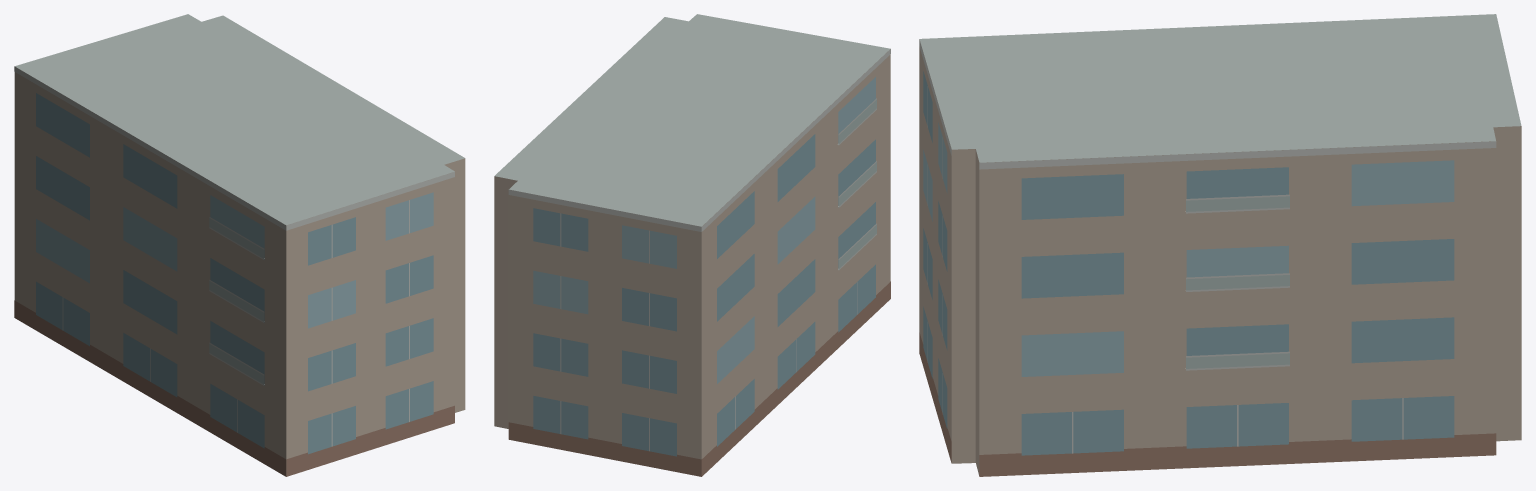
File: survey-upis-32663103.glb
3 views of the same model, side by side, from view 1: azimuth 30°, elevation 25°; view 2: azimuth 150°, elevation 25°; view 3: azimuth 270°, elevation 25° (orthographic). The views are drawn at different scales.
Parts seen in each view (by area): view 1: survey-upis-32663103.tmp; view 2: survey-upis-32663103.tmp; view 3: survey-upis-32663103.tmp.
Part boxes in pixels (bbox=[...]): survey-upis-32663103.tmp: bbox=[14, 14, 465, 476]; survey-upis-32663103.tmp: bbox=[494, 14, 890, 476]; survey-upis-32663103.tmp: bbox=[919, 14, 1521, 476].
Bounding box in the file's own units: 11.48 × 11.3 × 19.64.
